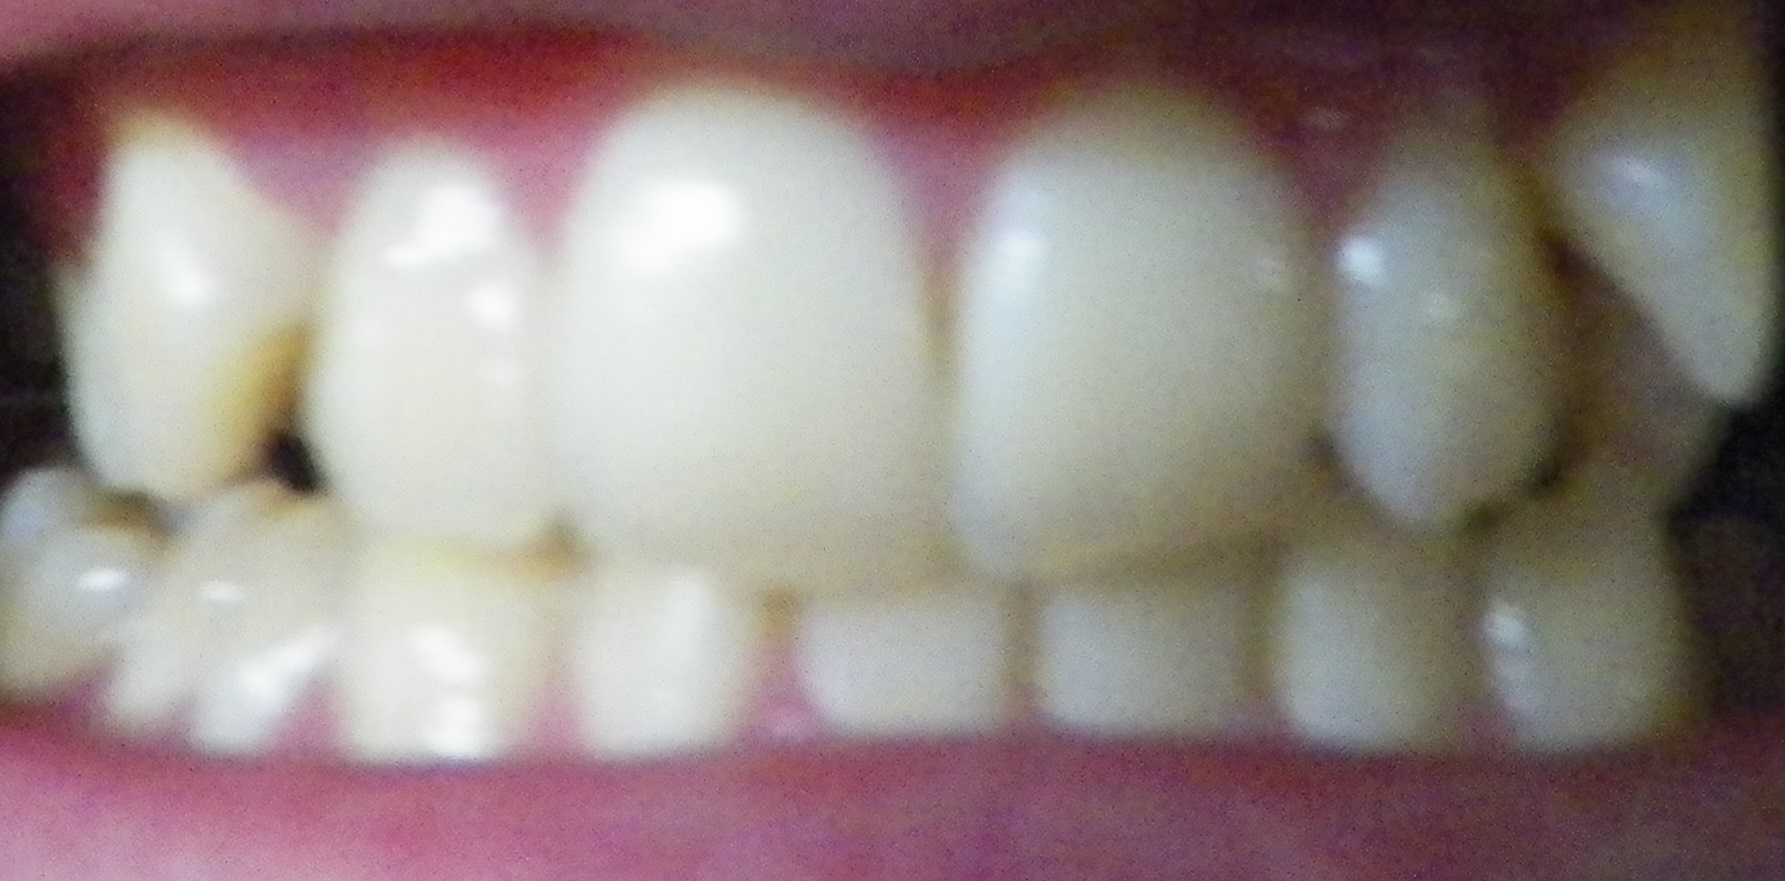boca: (6, 69, 1767, 761)
